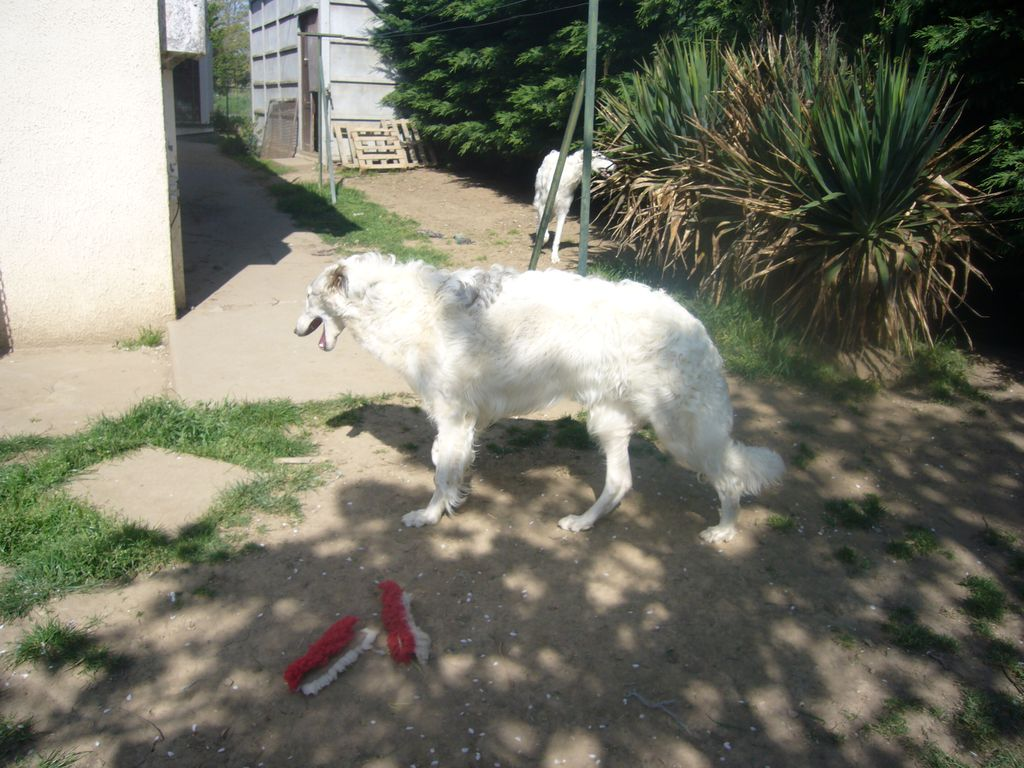borzoi: (275, 249, 779, 547), (531, 138, 623, 257)
